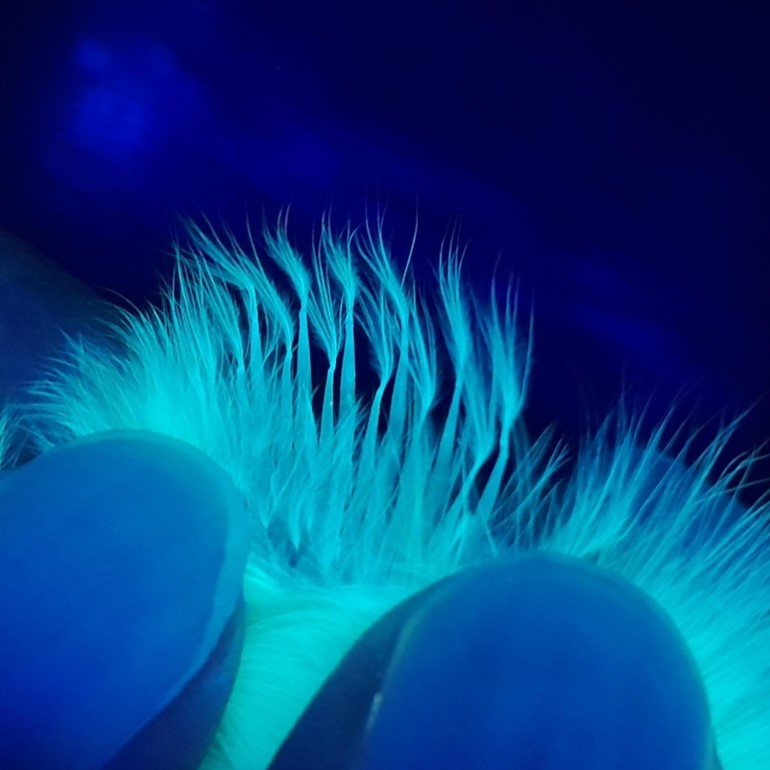female: (210, 296, 516, 627)
